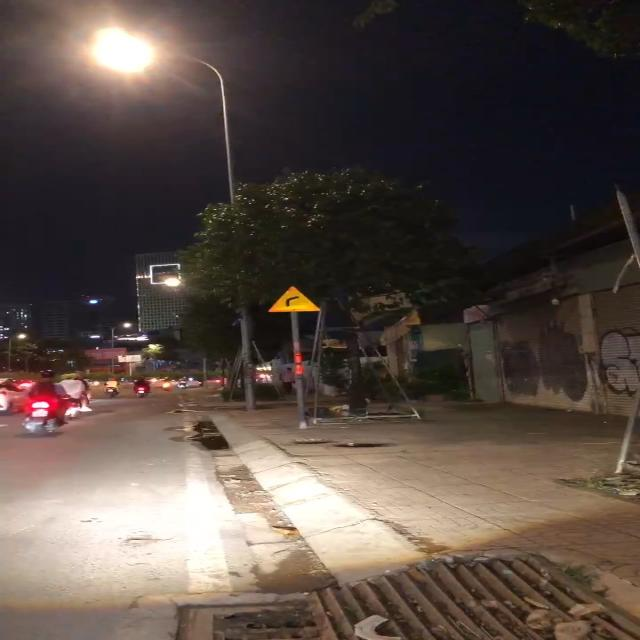Bien bao cho ngoat nguy hiem: (264, 282, 329, 319)
